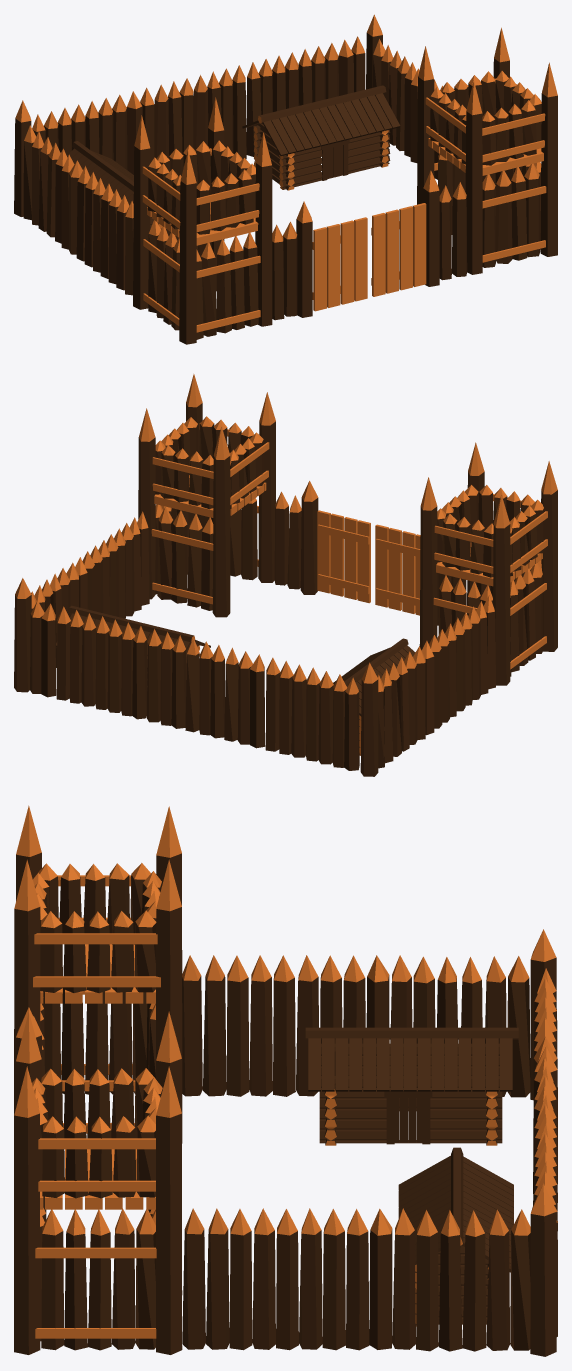
Rendered from fort.FBX.
3 renders of one model, top to bottom at view 1: azimuth 30°, elevation 25°; view 2: azimuth 150°, elevation 25°; view 3: azimuth 270°, elevation 25°, orthographic. The views are drawn at different scales.
Parts seen in each view (by area): view 1: Cylinder035 (×2), Cone147, Cone364, Cone365, Cone175, Cone176, Cylinder020, Box023 (×2), Box025 (×2), Box024 (×2), Cone348, Cone017 (+89 smaller); view 2: Cone348, Cone176, Cylinder035 (×2), Cone364, Cone151, Cone147, Cone337, Cone150, Box025 (×2), Box023 (×2), Cone018, Cone149 (+77 smaller); view 3: Cylinder035 (×2), Cone337, Cone365, Cylinder020, Cone149, Cone151, Cone175, Cone239, Cone240, Cone241, Cone243, Cone282 (+66 smaller).
Part boxes in pixels (bbox=[...]): Cylinder035 (×2): bbox=[66, 85, 400, 228]; Cone147: bbox=[179, 150, 196, 344]; Cone364: bbox=[465, 80, 482, 274]; Cone365: bbox=[540, 62, 557, 256]; Cone175: bbox=[255, 132, 272, 326]; Cone176: bbox=[133, 115, 150, 309]; Cylinder020: bbox=[279, 130, 390, 189]; Box023 (×2): bbox=[340, 206, 412, 304]; Box025 (×2): bbox=[326, 209, 398, 307]; Box024 (×2): bbox=[313, 213, 385, 311]; Cone348: bbox=[417, 46, 434, 204]; Cone017: bbox=[296, 201, 312, 317]; Cone348: bbox=[212, 426, 230, 617]; Cone176: bbox=[493, 494, 510, 685]; Cylinder035 (×2): bbox=[56, 605, 415, 716]; Cone364: bbox=[258, 392, 275, 582]; Cone151: bbox=[419, 477, 437, 650]; Cone147: bbox=[541, 461, 557, 651]; Cone337: bbox=[138, 408, 155, 599]; Cone150: bbox=[360, 662, 378, 776]; Box025 (×2): bbox=[344, 517, 415, 613]; Box023 (×2): bbox=[330, 513, 401, 610]; Cone018: bbox=[300, 481, 318, 594]; Cone149: bbox=[14, 578, 31, 692]; Cylinder035 (×2): bbox=[305, 1027, 518, 1324]; Cone337: bbox=[156, 1066, 182, 1354]; Cone365: bbox=[14, 1066, 40, 1354]; Cylinder020: bbox=[319, 1076, 502, 1143]; Cone149: bbox=[530, 1183, 556, 1356]; Cone151: bbox=[156, 859, 182, 1143]; Cone175: bbox=[14, 859, 40, 1115]; Cone239: bbox=[369, 1208, 392, 1349]; Cone240: bbox=[346, 1209, 369, 1350]; Cone241: bbox=[322, 1209, 345, 1350]; Cone243: bbox=[276, 1209, 298, 1350]; Cone282: bbox=[273, 955, 295, 1096].
Bounding box in the file's own units: 255 × 125 × 216.
